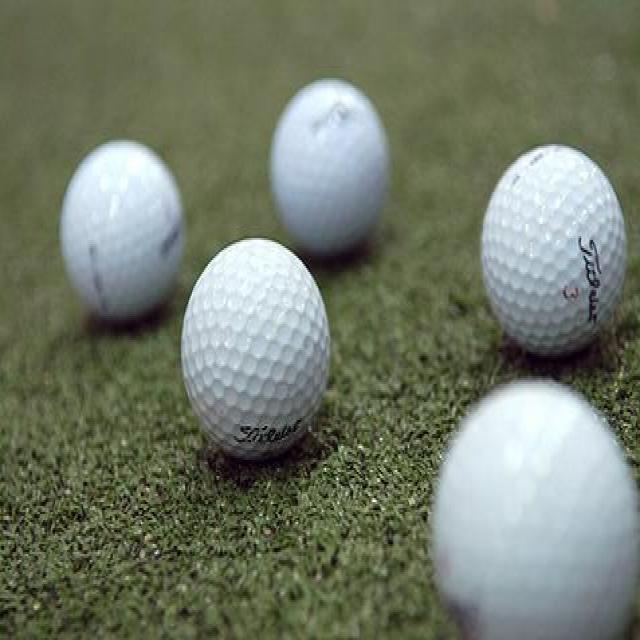golfball: (432, 376, 640, 640), (174, 236, 341, 474), (474, 136, 630, 362), (52, 126, 185, 342), (263, 74, 394, 268)
